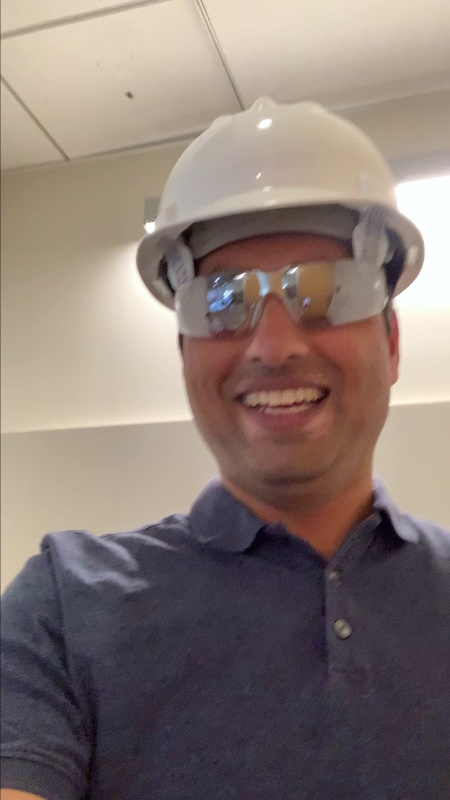glasses: (150, 252, 412, 341)
helmet: (131, 91, 433, 286)
